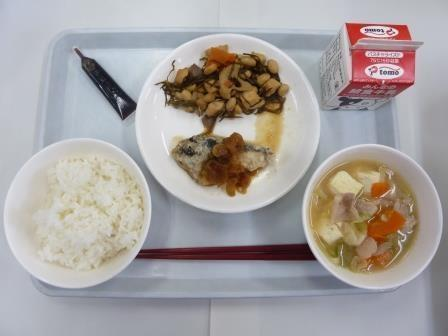Fish: (170, 125, 279, 193)
Milk: (322, 14, 445, 120)
Rice: (7, 141, 160, 286)
Soups: (312, 151, 438, 285)
salad with sauce: (152, 36, 292, 122)
